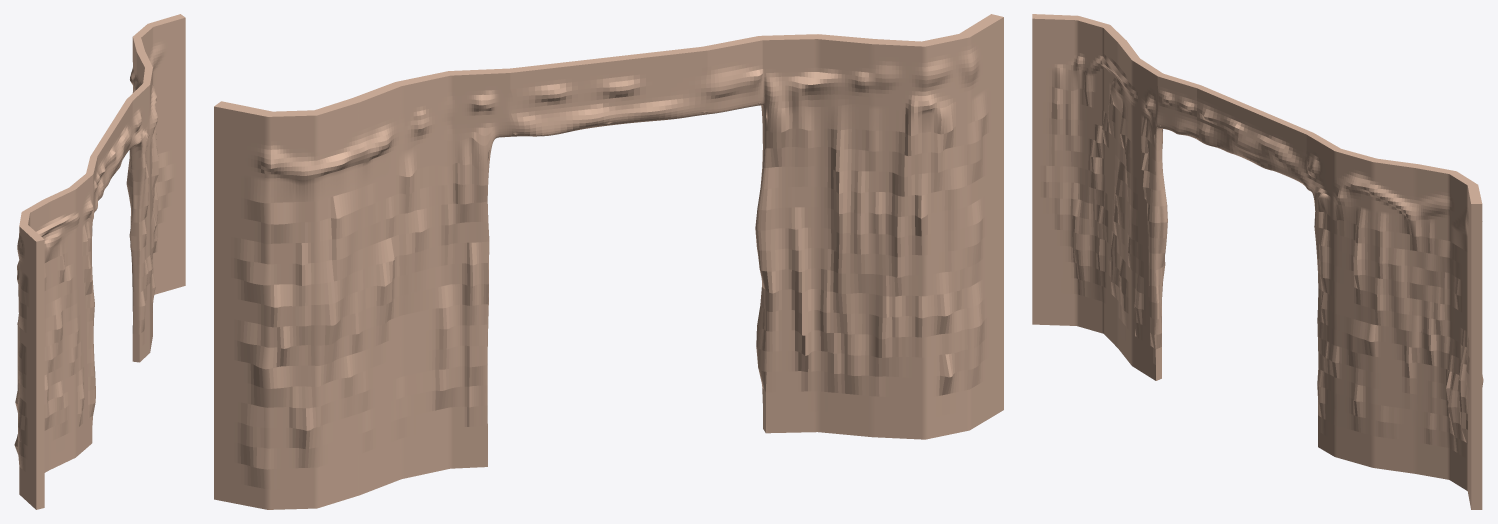
Rendered from structure_doordiagonal.fbx.
The picture shows the model from 3 angles, left to right: view 1: azimuth 30°, elevation 25°; view 2: azimuth 150°, elevation 25°; view 3: azimuth 270°, elevation 25°; orthographic projection. The views are drawn at different scales.
Parts seen in each view (by area): view 1: doordiagonal_LOD0; view 2: doordiagonal_LOD0; view 3: doordiagonal_LOD0.
Part boxes in pixels (x1,y1,x2,y2): doordiagonal_LOD0: [14, 14, 185, 509]; doordiagonal_LOD0: [214, 14, 1003, 509]; doordiagonal_LOD0: [1032, 14, 1483, 509].
Size of what is drawn, in the model's own units: 401 by 300 by 401.
